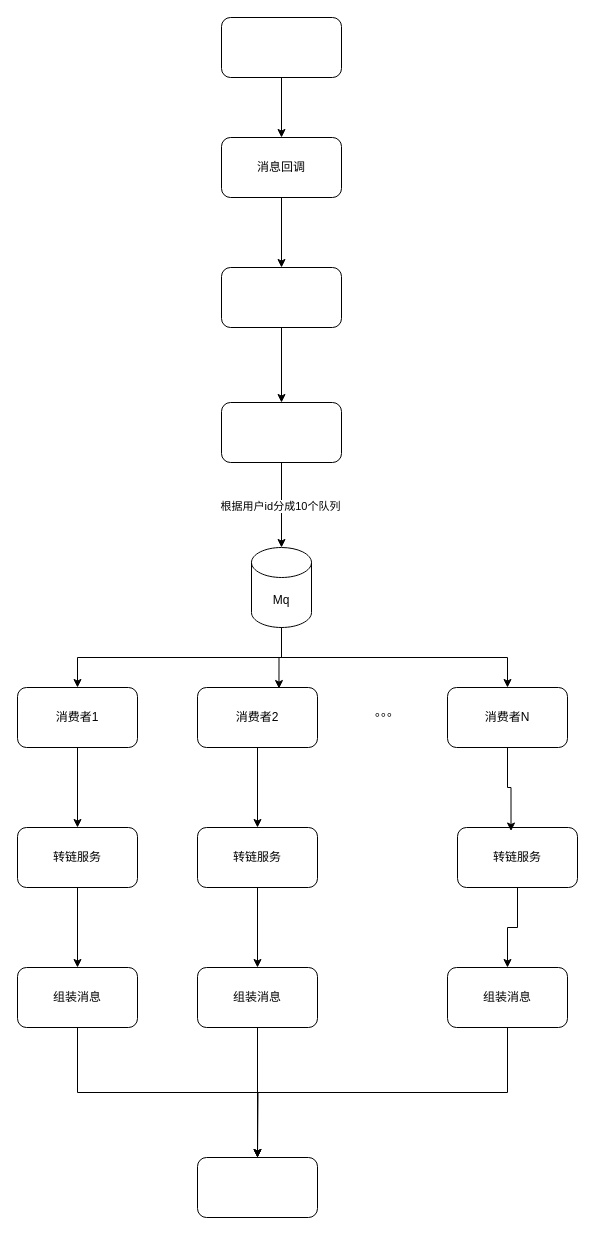
The diagram is 595 pixels wide and 1235 high, and some of its shapes have lost their labels. Here are the shapes that lost their labels. From the top down, the box of each, then its label:
(220, 16, 342, 78): 源头群发送一条链接
(220, 266, 342, 328): 前置消息判断处理
(220, 402, 342, 462): 获取跟群的人员，x万个用户，组装消息
(196, 1156, 318, 1218): 消息中心
